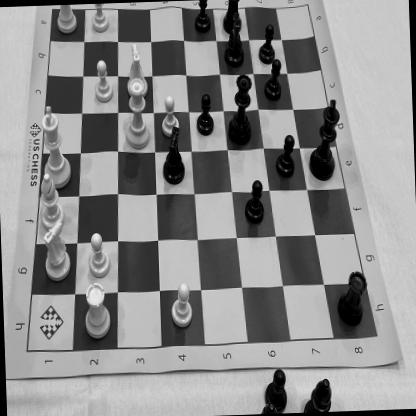black-king: (306, 96, 344, 184)
black-knight: (155, 125, 188, 187), (223, 11, 247, 70)
black-pawn: (273, 130, 298, 180), (192, 90, 217, 139), (242, 178, 266, 226), (262, 55, 284, 104), (257, 22, 278, 66), (191, 0, 212, 33)
black-queen: (223, 71, 256, 147)
black-rook: (335, 268, 370, 329), (219, 0, 244, 38)
white-bishop: (32, 170, 67, 232)
white-king: (35, 103, 72, 190)
white-knight: (38, 221, 74, 285), (123, 41, 152, 100)
white-pawn: (85, 228, 113, 282), (166, 278, 194, 330), (158, 92, 182, 139), (91, 57, 114, 104), (90, 4, 110, 34)
white-queen: (119, 77, 154, 152)
white-rook: (81, 281, 114, 342), (53, 5, 80, 37)
